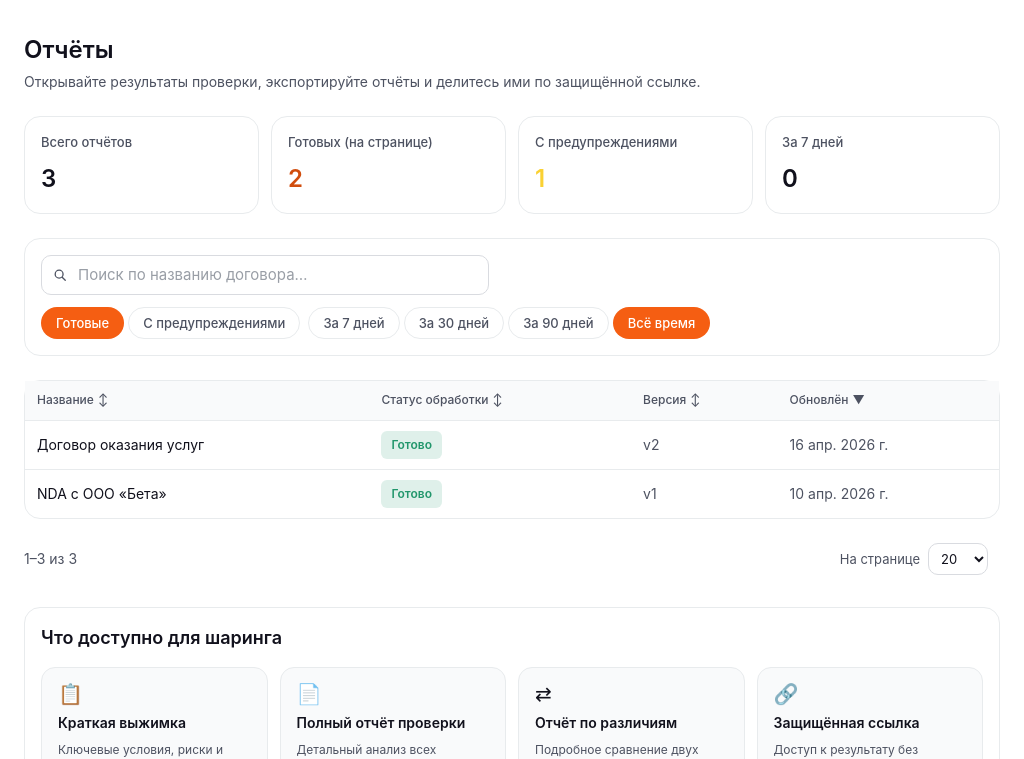
Scenario: ReportsPage › Row select → открывается ReportDetailPanel; close → панель пропадает
This screenshot has width=1024, height=759.
expect the link "Договор оказания услуг" is shown: met, box [37,436,204,453]
Click the row with test id "reports-table-row-c1" at [512, 445], box [25,420,999,470]
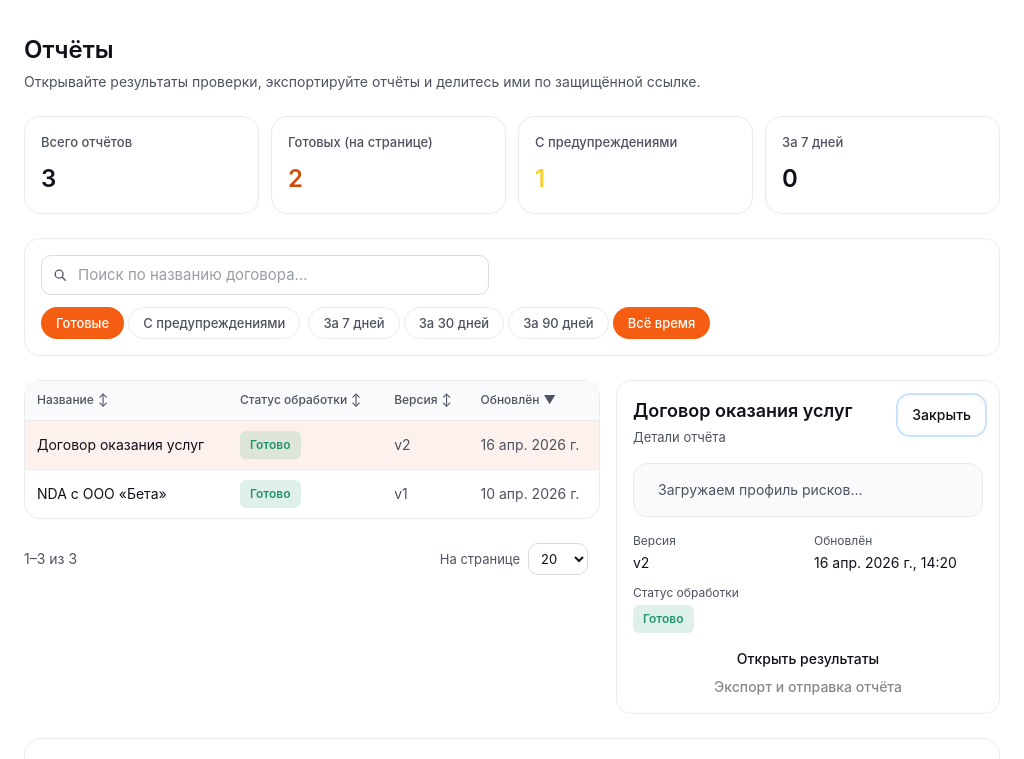
expect the element with test id "report-detail-panel" is shown: met, box [616,380,1000,714]
Click the button with test id "report-detail-panel-close" at [942, 414], box [900,396,983,432]
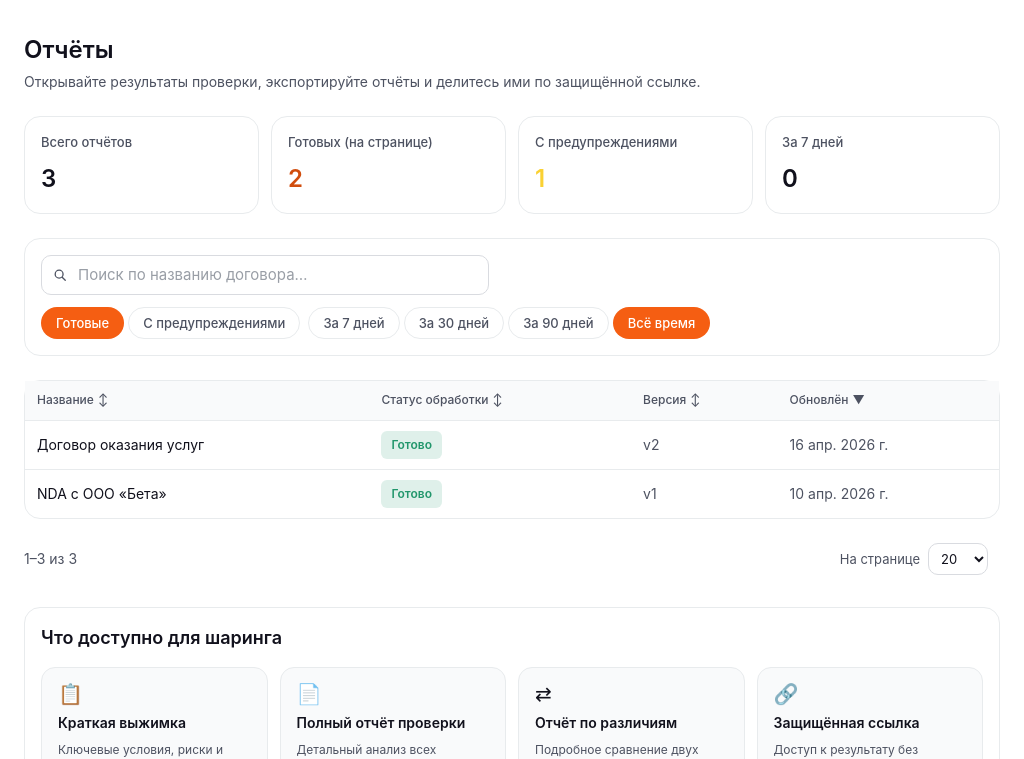
expect the element with test id "report-detail-panel" is gone: met
